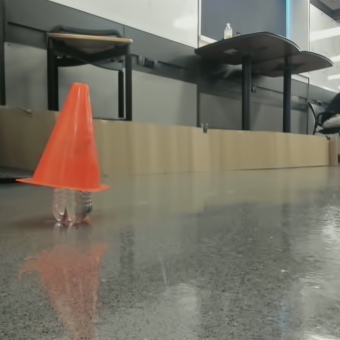Cone: (48, 76, 117, 180)
